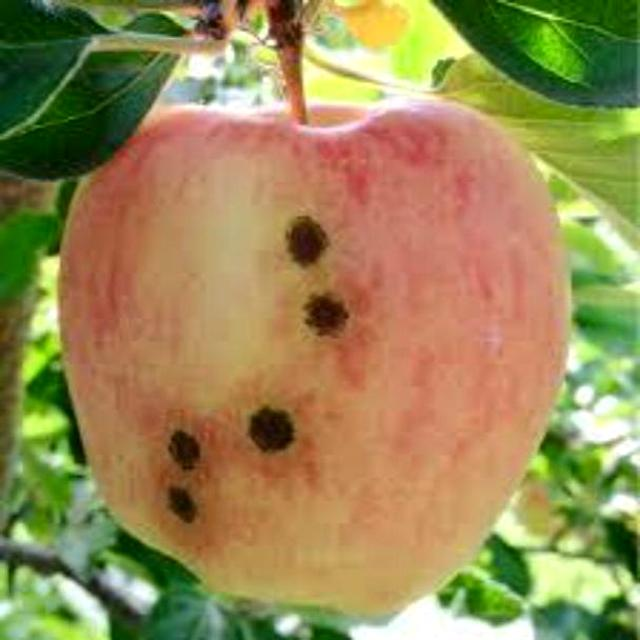SCAB: (34, 98, 545, 619)
